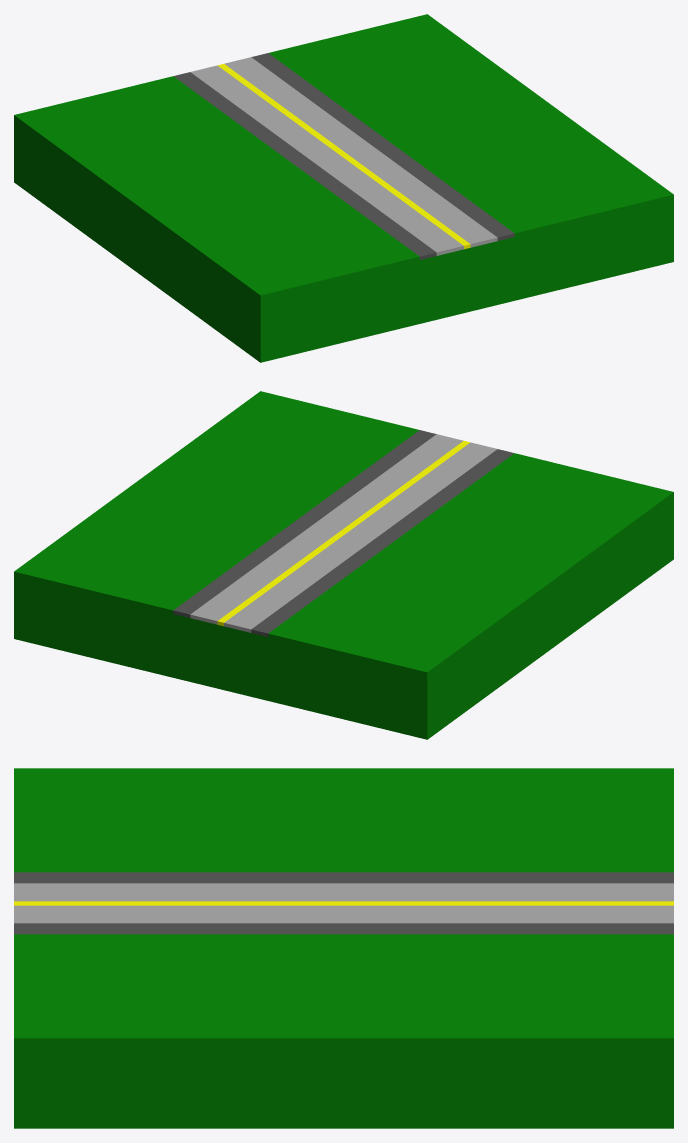
File: road_block.obj
3 renders of one model, top to bottom at view 1: azimuth 30°, elevation 25°; view 2: azimuth 150°, elevation 25°; view 3: azimuth 270°, elevation 25°, orthographic. The views are drawn at different scales.
Size of the model in its own units: 122 by 19 by 126.
1 material, 1 textured.
